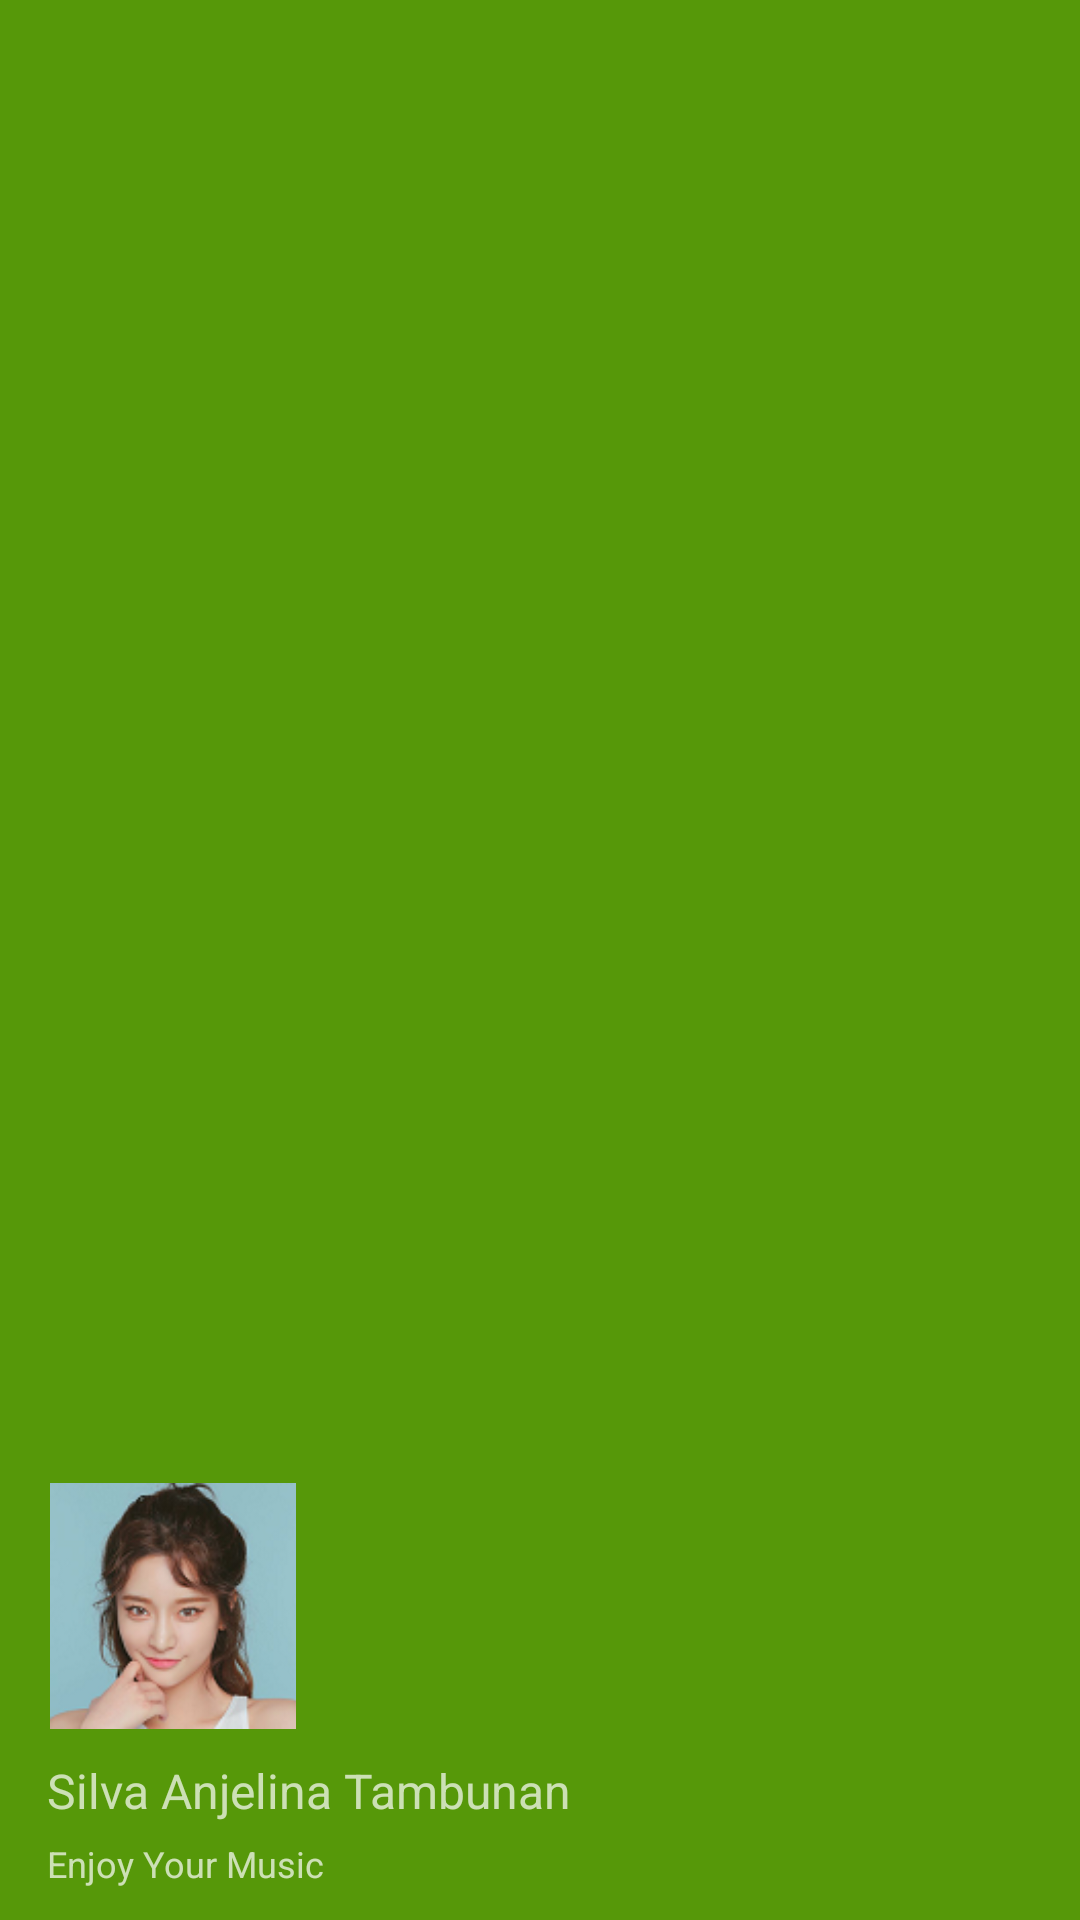

Icons on this 1080 x 1920 Android screen, each with its box as rect(x1, y1, x2, y2):
profile: rect(50, 1483, 296, 1729)
